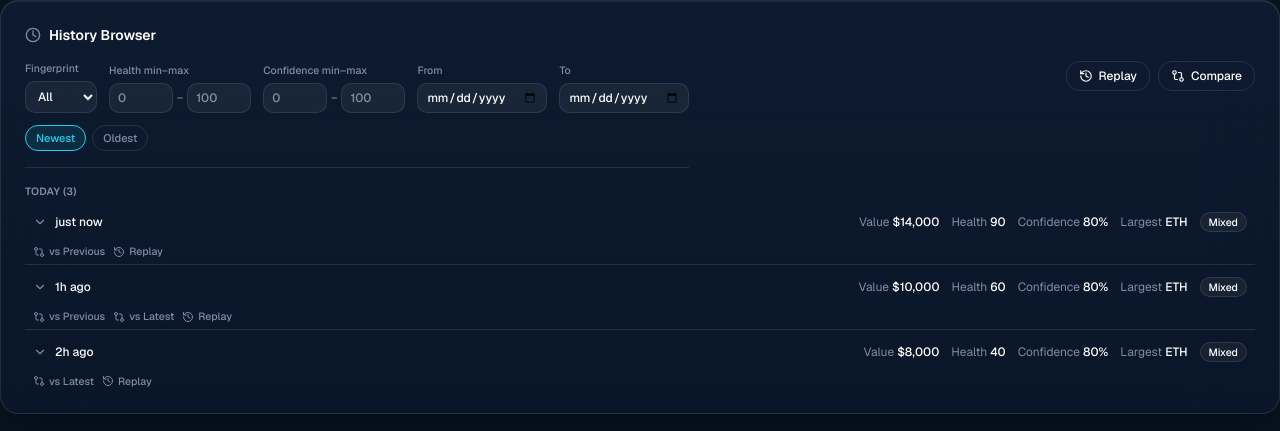
Scenario: HistoryBrowserSection — V4-HISTORY-003 Snapshot Compare › 'Cancel Compare' exits selection mode and clears any in-progress selection
The image size is (1280, 431).
Click the button "Compare".
click(1206, 76)  # box [1158,61,1255,91]
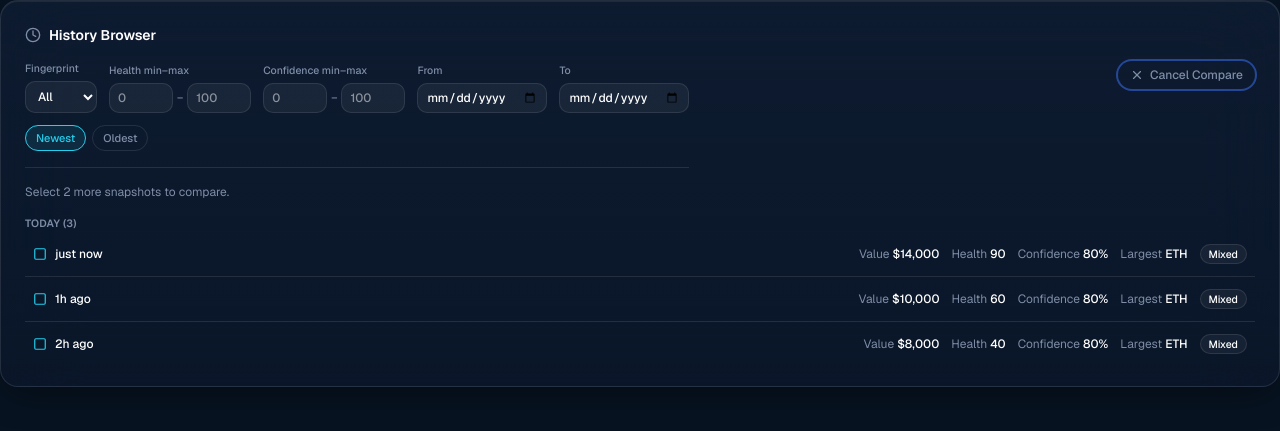
Click the button "Health 40".
click(74, 344)  # box [25,326,1255,362]
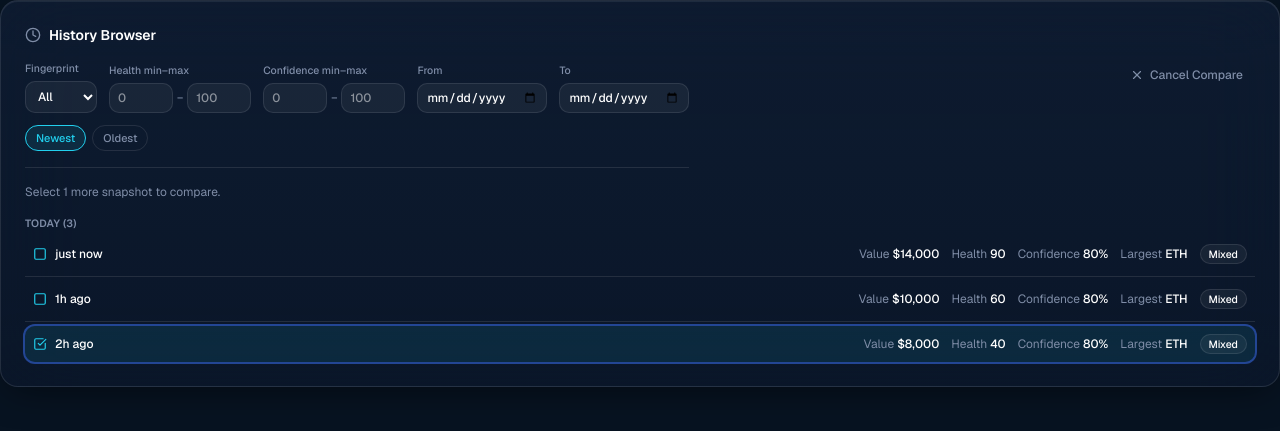
Click the button "Cancel Compare".
click(1186, 75)  # box [1118,61,1255,89]
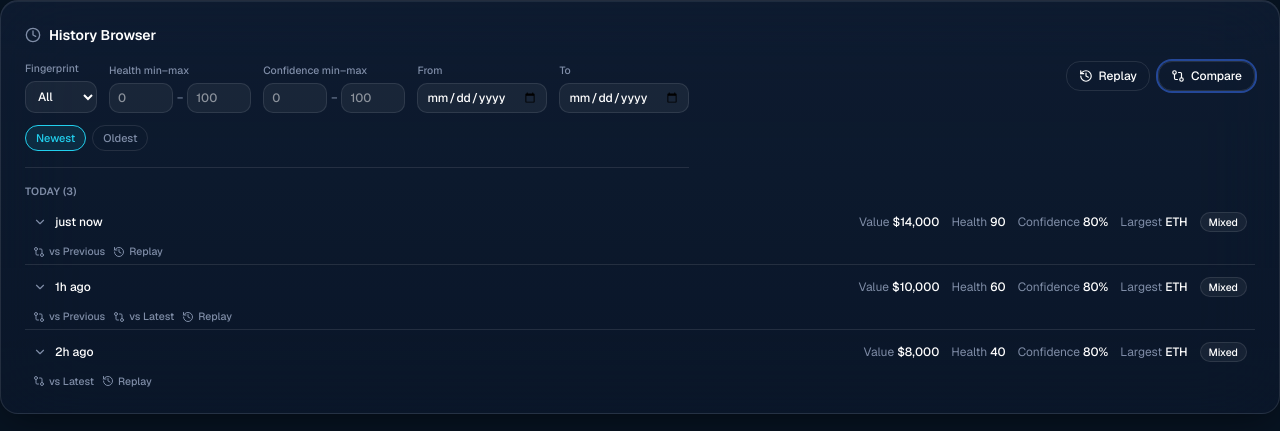
Result: the button "Compare" is shown at [1158,61,1255,91]
Result: the text "Select 1 more snapshot to compare." is gone
